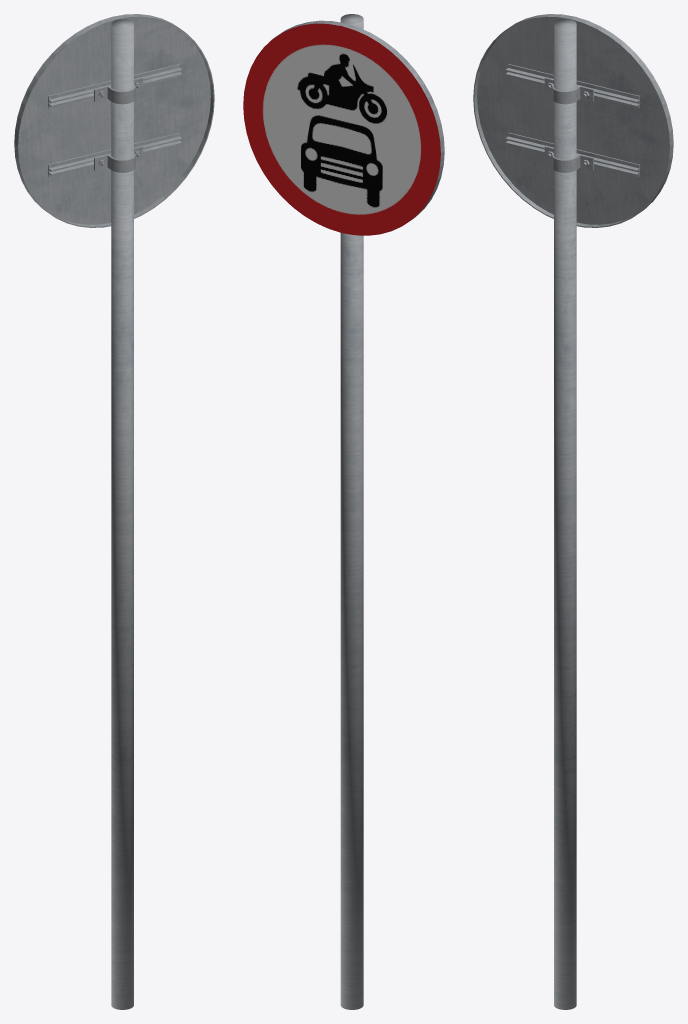
The model's file is Motor_vehicles_prohibited.fbx.
3 renders of one model, left to right at view 1: azimuth 30°, elevation 25°; view 2: azimuth 150°, elevation 25°; view 3: azimuth 330°, elevation 25°, orthographic.
Parts seen in each view (by area): view 1: Motor vehicles prohibited; view 2: Motor vehicles prohibited; view 3: Motor vehicles prohibited.
Boxes of the visible parts, left/top/right/bottom form: Motor vehicles prohibited: left=14, top=14, right=214, bottom=1009; Motor vehicles prohibited: left=243, top=14, right=444, bottom=1009; Motor vehicles prohibited: left=473, top=14, right=673, bottom=1009.
Size of the model in its own units: 0.0876 by 0.6 by 2.86.
